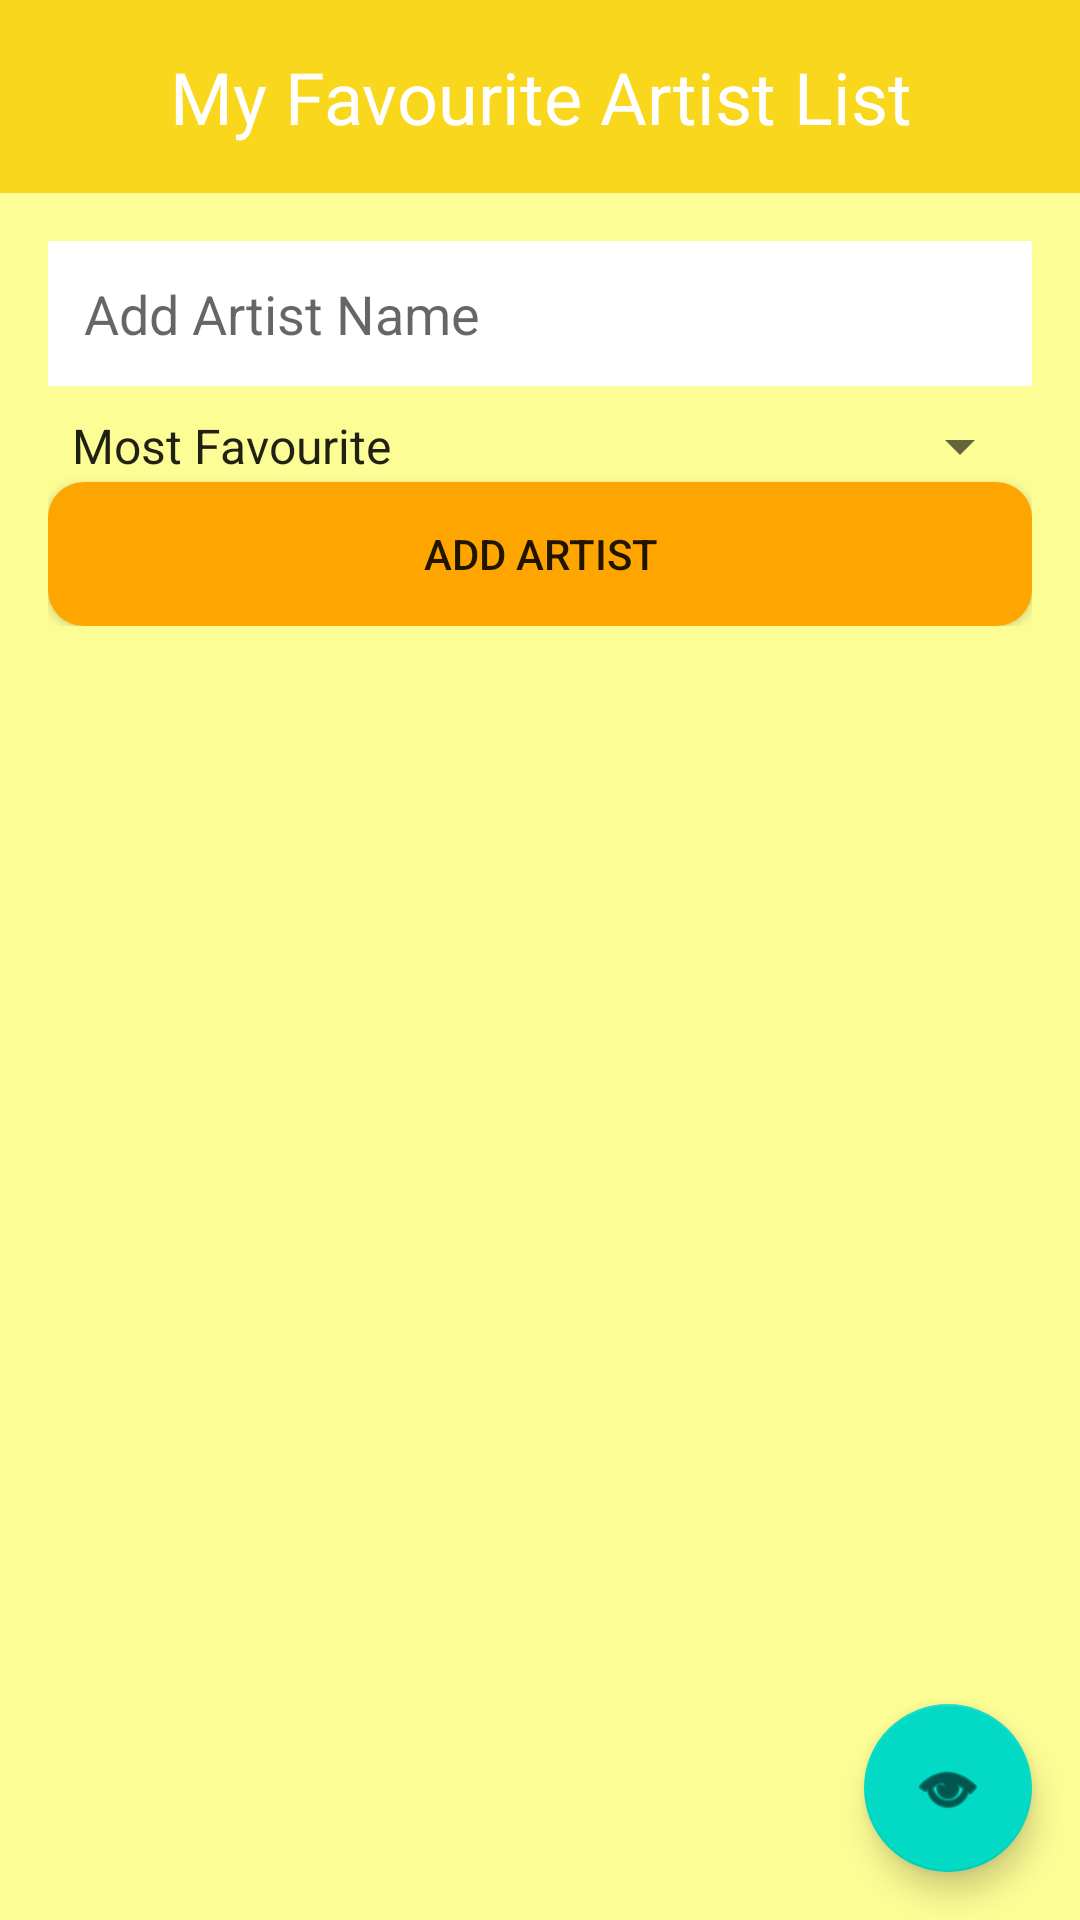

Named icons in this screenshot (1080*1920) and their bounding boxes, region(x1, y1, x2, y2):
View Artists: region(864, 1704, 1032, 1872)
